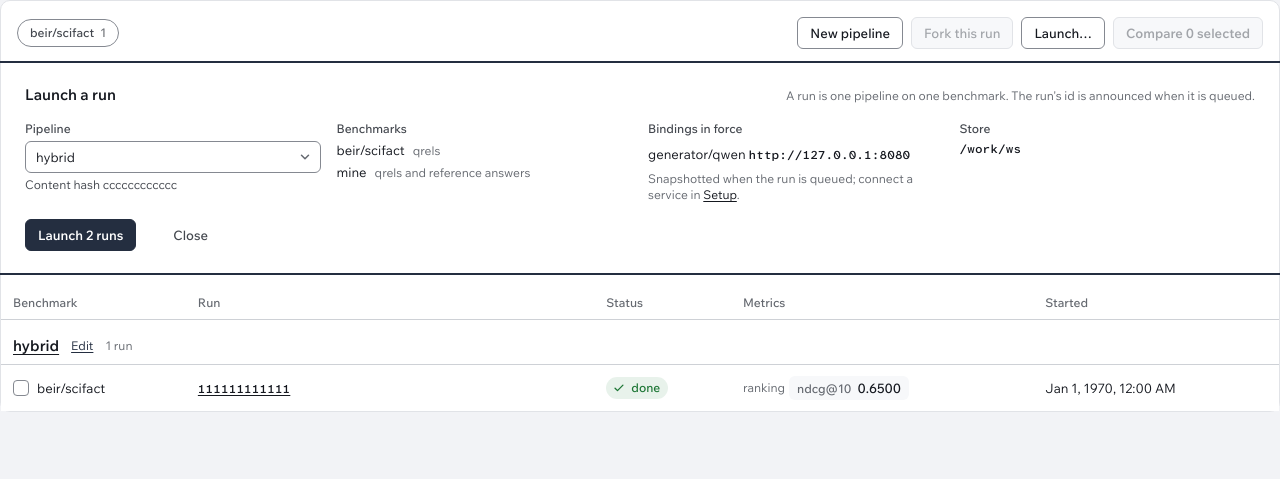
Test: the launch panel on several benchmarks › retries the refused alone, with one confirmation, keeping what was queued
Click the button "Launch 2 runs". click: click(81, 235)
box: [25,219,136,251]
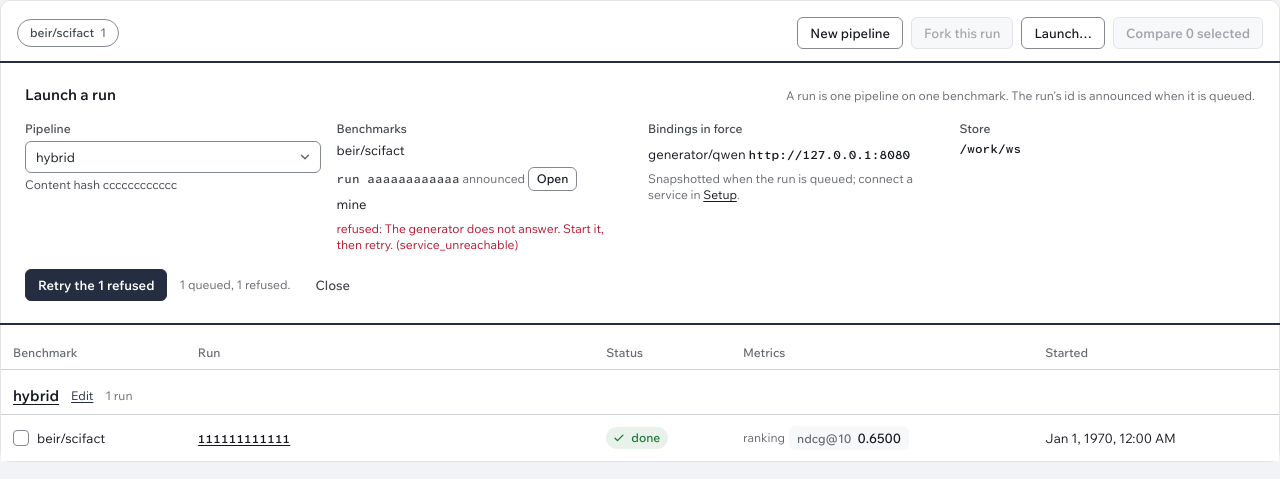
Click the button "Retry the 1 refused". click: click(96, 285)
box: [25,269,168,301]
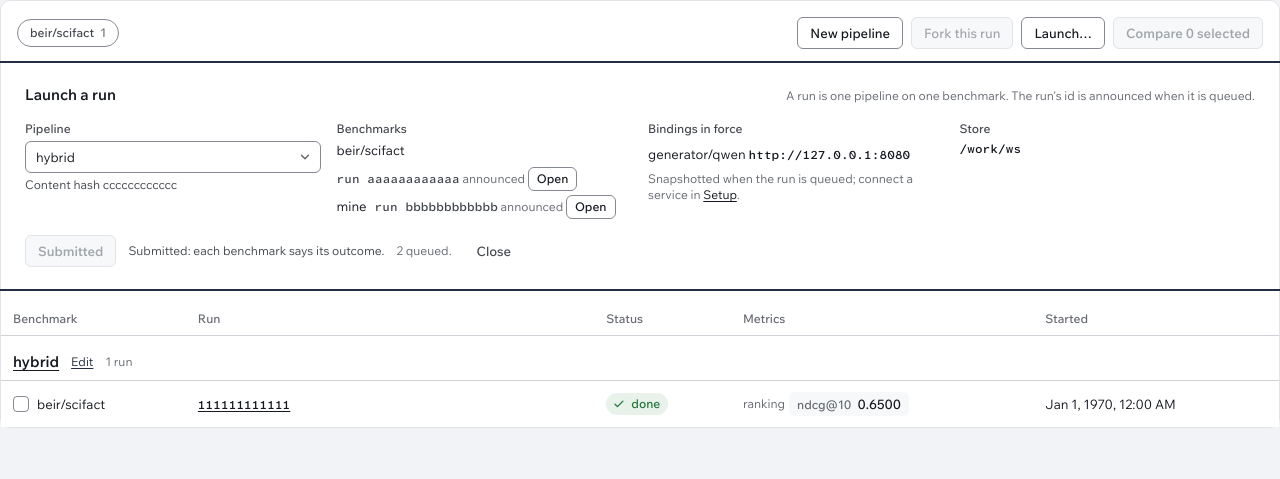
Expected: the text "2 queued." is shown, [396,243,452,259]
Expected: the text "Submitted: each benchmark says its outcome." is shown, [128,243,384,259]
